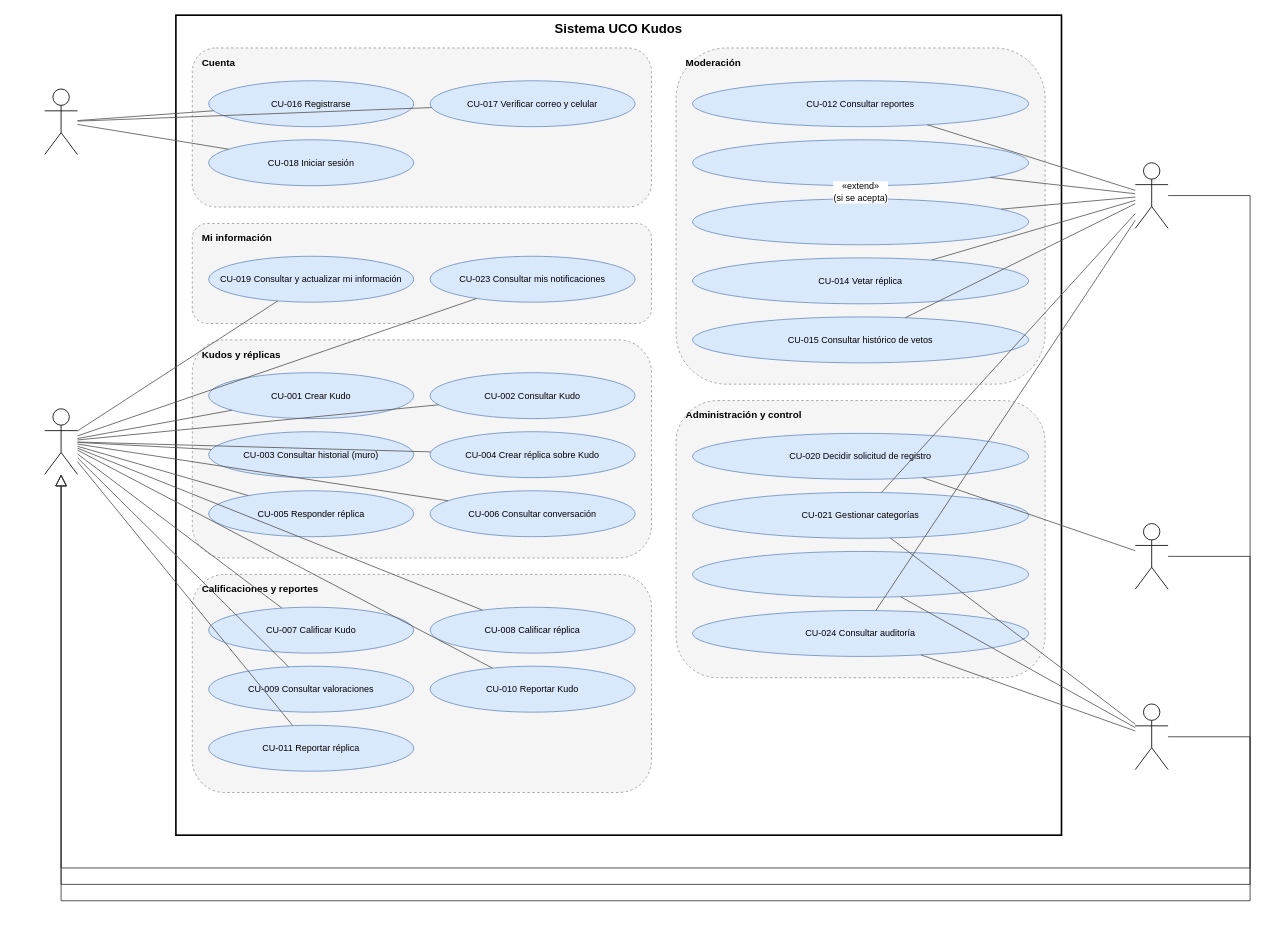
The diagram is 1276 pixels wide and 927 high, and some of its shapes have lost their labels. Here are the shapes that lost their labels. From the top down, the centre of each, then its label:
At (60,121): "Visitante".
At (860,162): "CU-025 Revisar y decidir reporte".
At (1151,195): "Autoridad (Rector, Coord. Académico)".
At (860,221): "CU-013 Vetar Kudo".
At (60,441): "Usuario autenticado".
At (860,574): "CU-022 Gestionar facultades y programas".
At (1151,556): "Aprobador (según matriz)".
At (1151,736): "Administrador".
